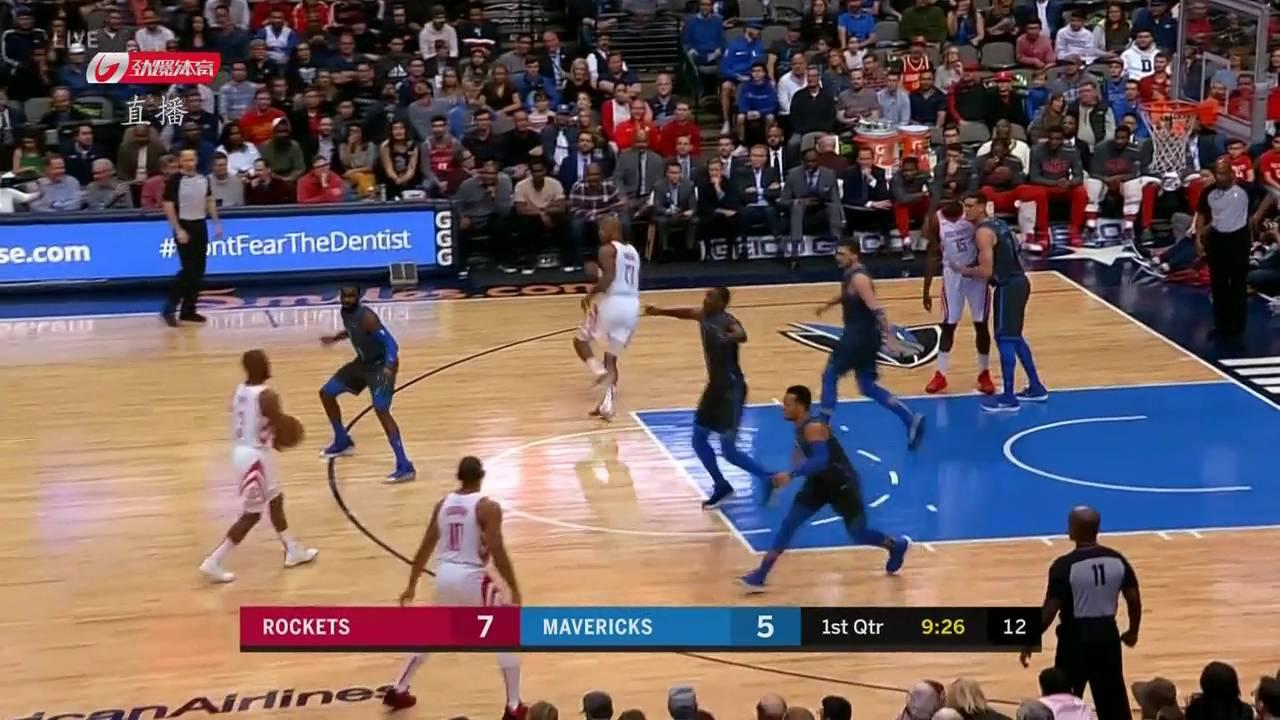basketball: (279, 416, 306, 448)
